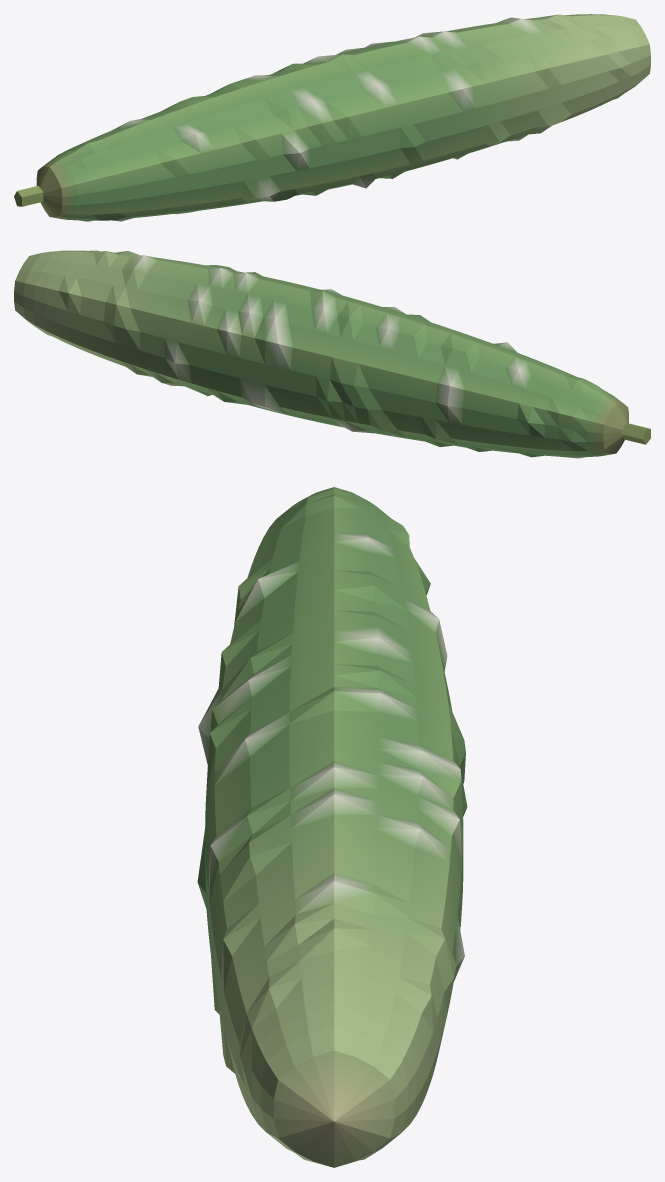
Rendered from cucumber.glb.
The picture shows the model from 3 angles, top to bottom: view 1: azimuth 30°, elevation 25°; view 2: azimuth 150°, elevation 25°; view 3: azimuth 270°, elevation 25°; orthographic projection. The views are drawn at different scales.
Visible parts, largest first — view 1: cucumber; view 2: cucumber; view 3: cucumber.
Part boxes in pixels (<box>): cucumber: <box>14,14,650,221</box>; cucumber: <box>14,250,650,458</box>; cucumber: <box>197,487,467,1167</box>.
Size of the model in its own units: 2.06 by 0.416 by 0.3821.
